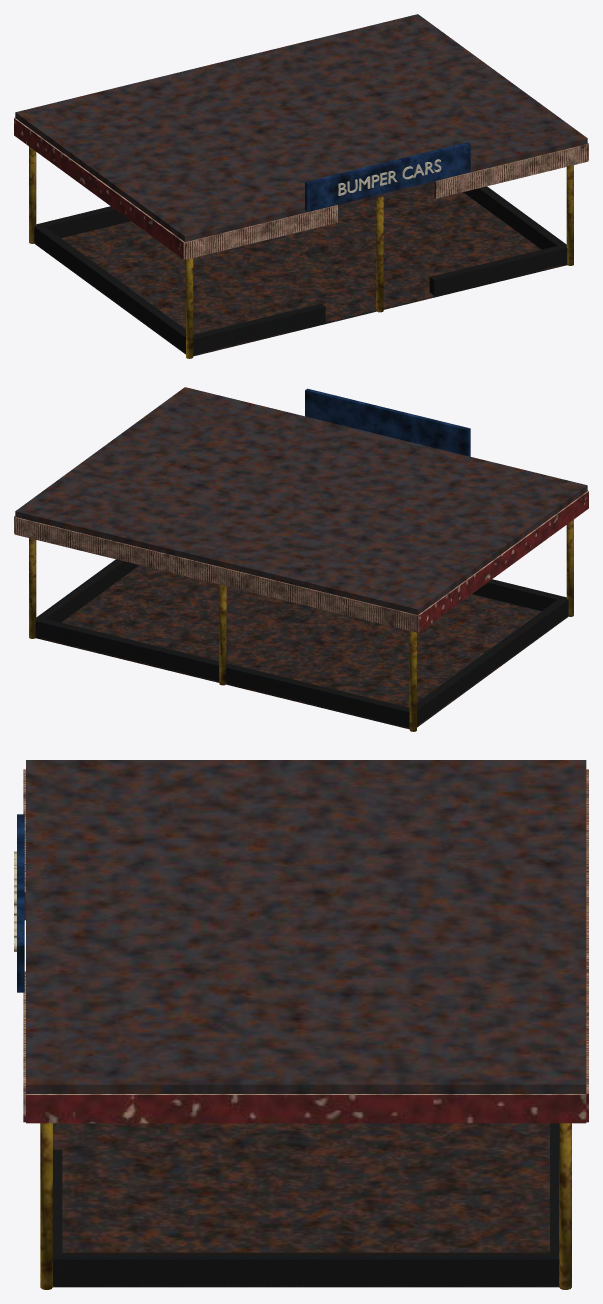
The model's file is bumper_arena.glb.
3 views of the same model, one above another, from view 1: azimuth 30°, elevation 25°; view 2: azimuth 150°, elevation 25°; view 3: azimuth 270°, elevation 25° (orthographic). The views are drawn at different scales.
Visible parts, largest first — view 1: Main; view 2: Main; view 3: Main.
Boxes of the visible parts, x1,y1,x2,y2 form: Main: [14, 14, 588, 358]; Main: [14, 387, 588, 731]; Main: [14, 760, 588, 1289].
Bounding box in the file's own units: 14.9 × 5.4 × 11.08.
Materials: 1 (1 with a texture image).
